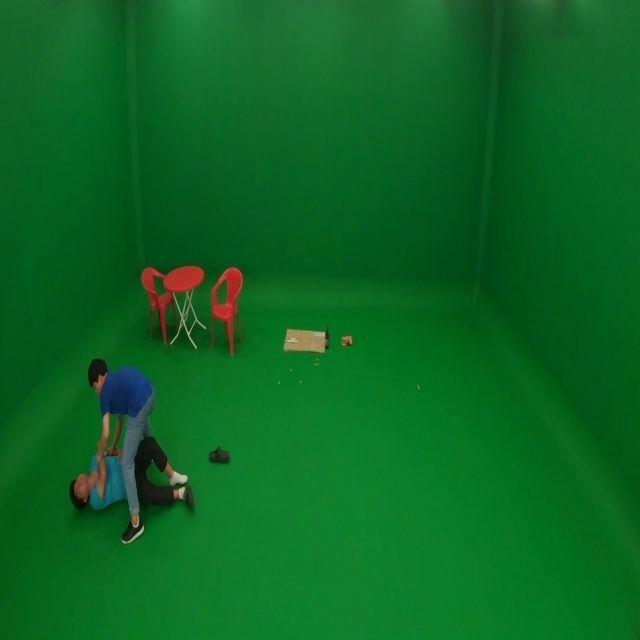fight: (65, 353, 193, 545)
